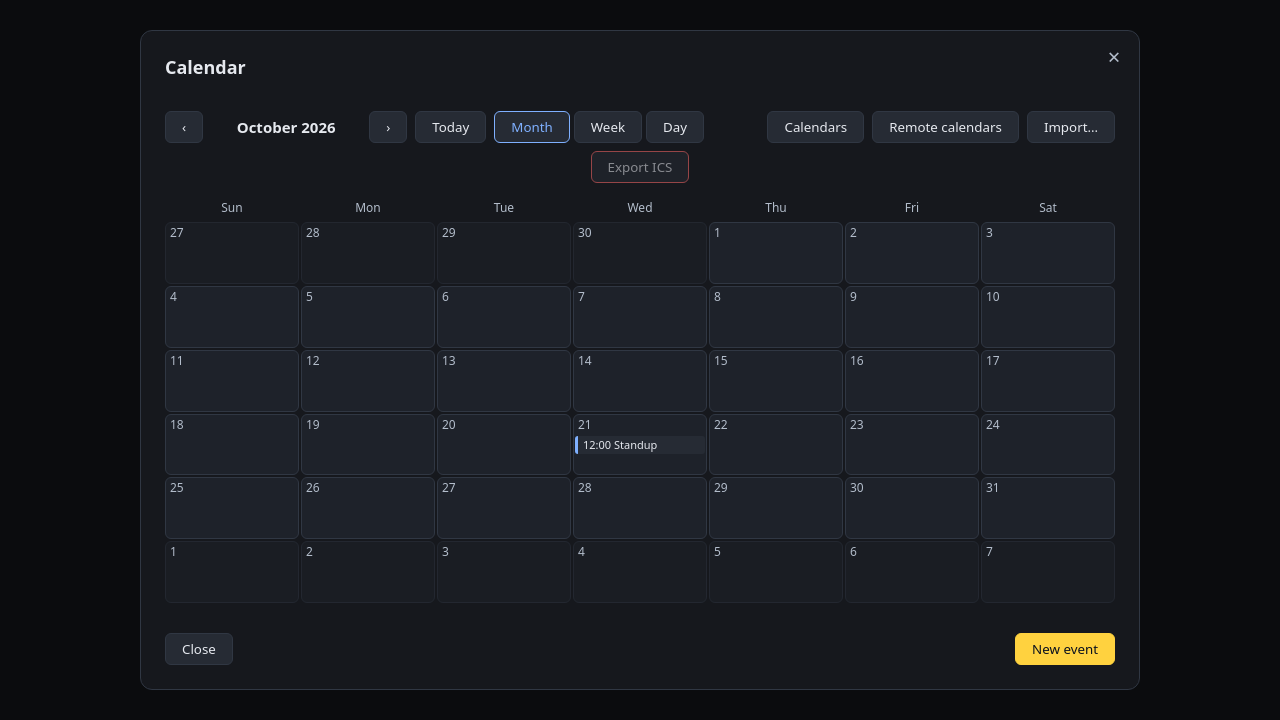
Test: CalendarModal: event form › opens an existing one-off event for editing
Click the button "12:00 Standup" at (640, 444), box [575,436,705,454]
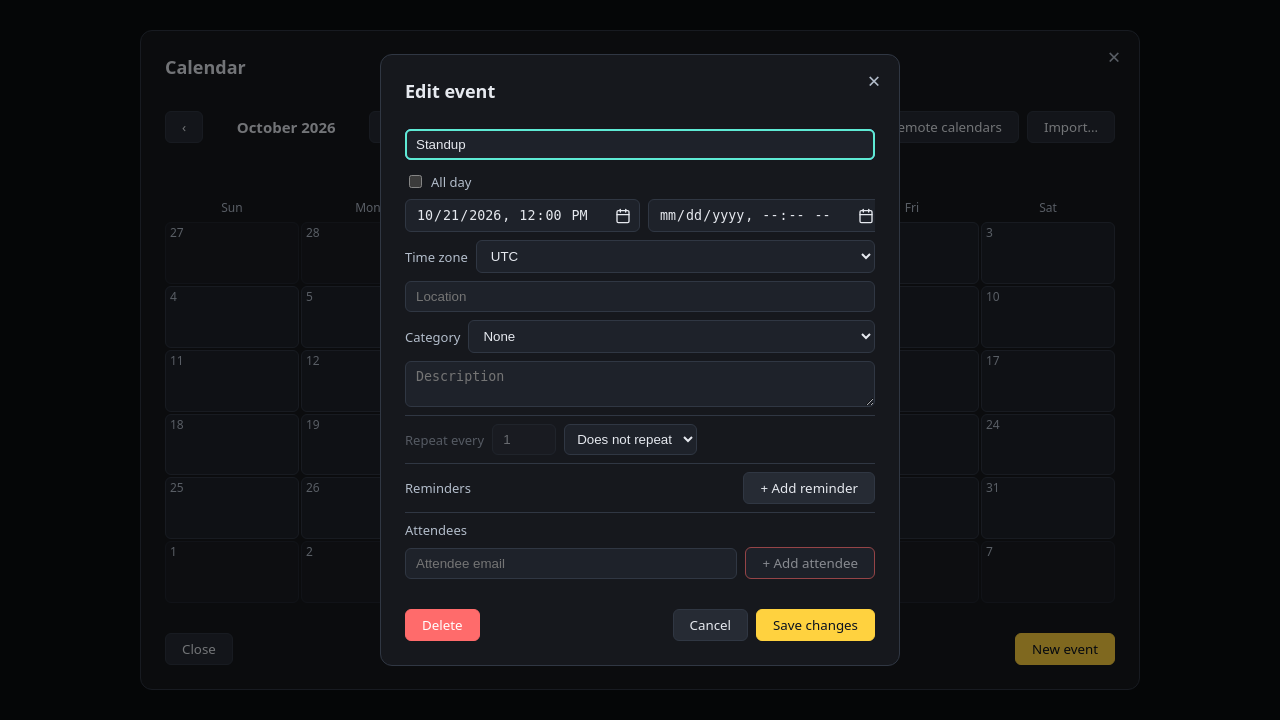
Now the dialog "Edit event" is shown, box [380,54,900,666]
Now the field showing "Standup" is shown, box [405,129,875,160]
Now the button "Delete" is shown, box [405,609,480,641]
